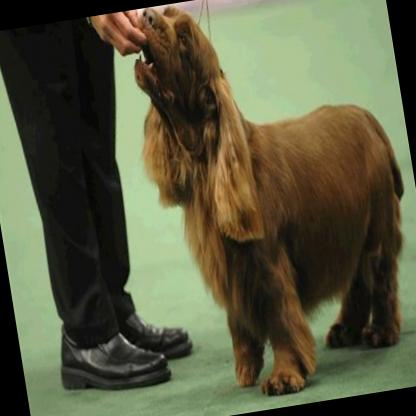Sussex_spaniel: (117, 0, 416, 411)
